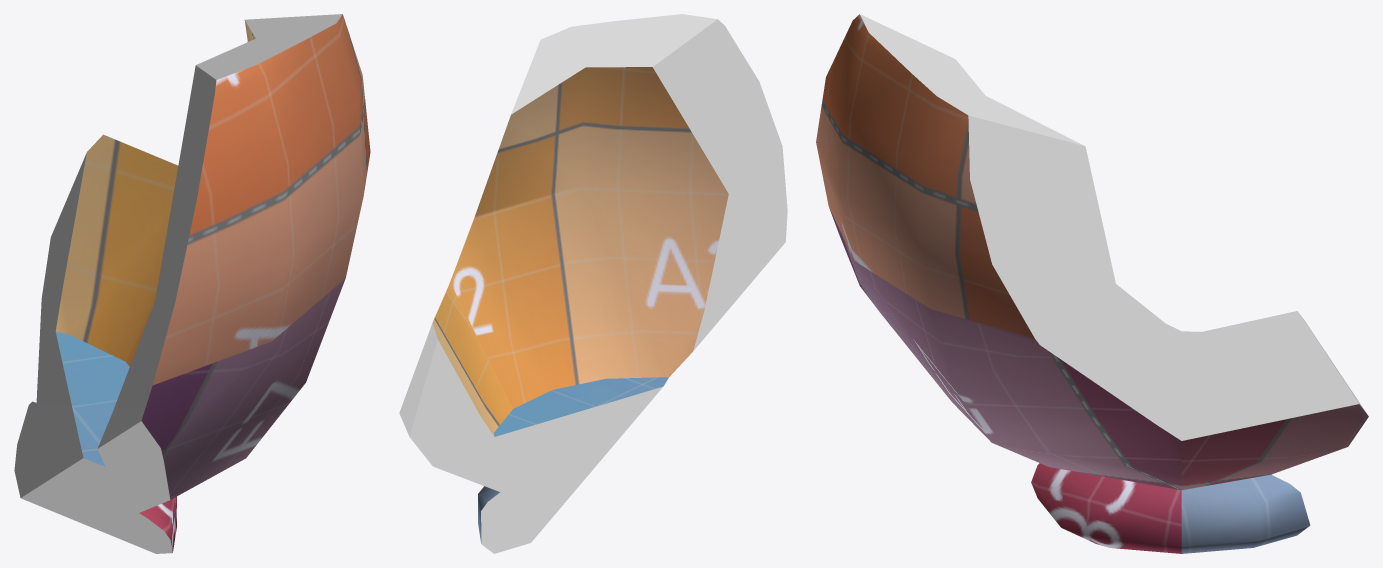
The model's file is RoundVase_SHAT_cell_016.fbx.
3 views of the same model, side by side, from view 1: azimuth 30°, elevation 25°; view 2: azimuth 150°, elevation 25°; view 3: azimuth 270°, elevation 25° (orthographic). The views are drawn at different scales.
Parts seen in each view (by area): view 1: RoundVase_SHAT_cell_016; view 2: RoundVase_SHAT_cell_016; view 3: RoundVase_SHAT_cell_016.
Boxes of the visible parts, x1,y1,x2,y2 form: RoundVase_SHAT_cell_016: (14,14,370,553); RoundVase_SHAT_cell_016: (399,14,787,553); RoundVase_SHAT_cell_016: (816,14,1368,553).
Size of the model in its own units: 0.4243 by 0.7308 by 0.7368.
Materials: 2 (1 with a texture image).
